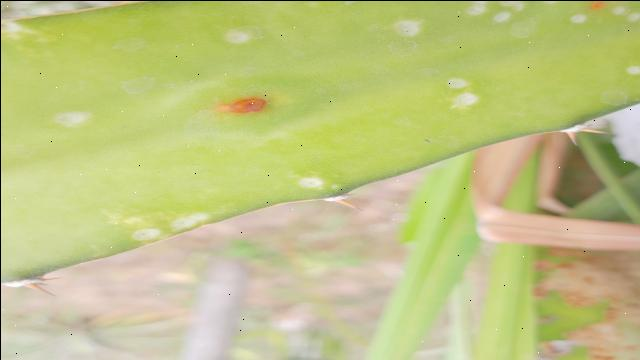stemcanker: (555, 0, 640, 104), (118, 203, 220, 247), (193, 84, 280, 126), (431, 66, 493, 117), (25, 98, 99, 137), (444, 0, 545, 28), (377, 11, 441, 45), (283, 167, 346, 198), (207, 21, 273, 49)
